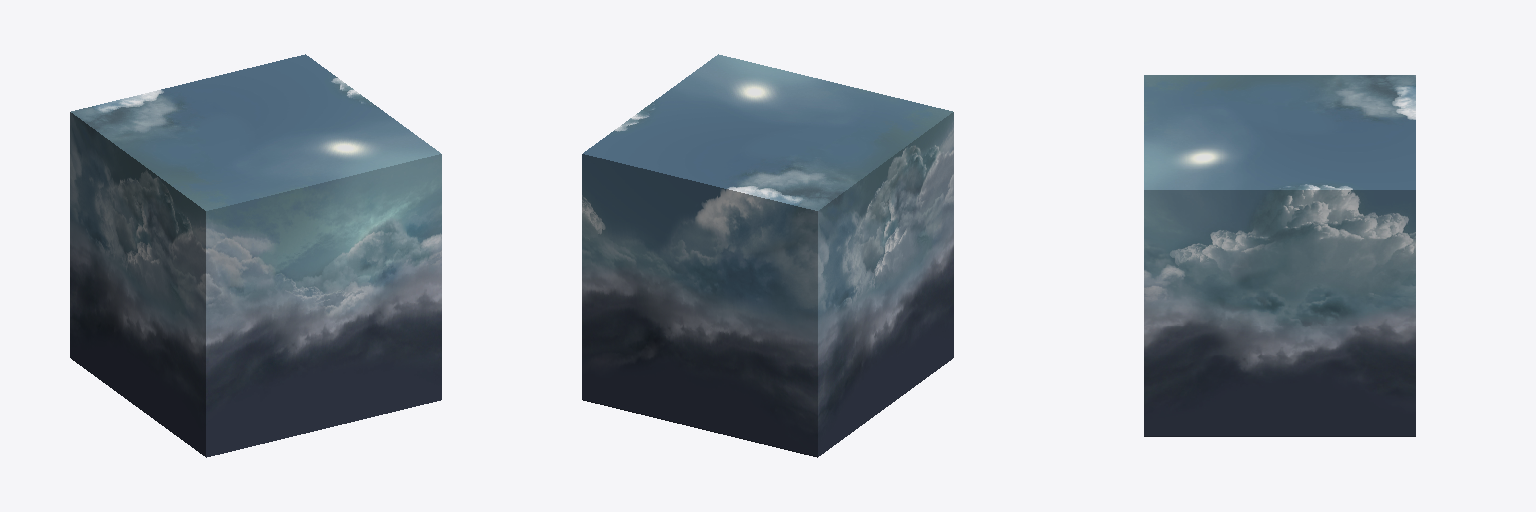
The picture shows the model from 3 angles: view 1: azimuth 30°, elevation 25°; view 2: azimuth 150°, elevation 25°; view 3: azimuth 270°, elevation 25°; orthographic projection.
Visible parts, largest first — view 1: Sky_Cube; view 2: Sky_Cube; view 3: Sky_Cube.
Boxes of the visible parts, <box> form: Sky_Cube: <box>70,54,441,457</box>; Sky_Cube: <box>582,54,953,457</box>; Sky_Cube: <box>1144,75,1415,436</box>.
Size of the model in its own units: 20 by 20 by 20.
Materials: 1 (1 with a texture image).